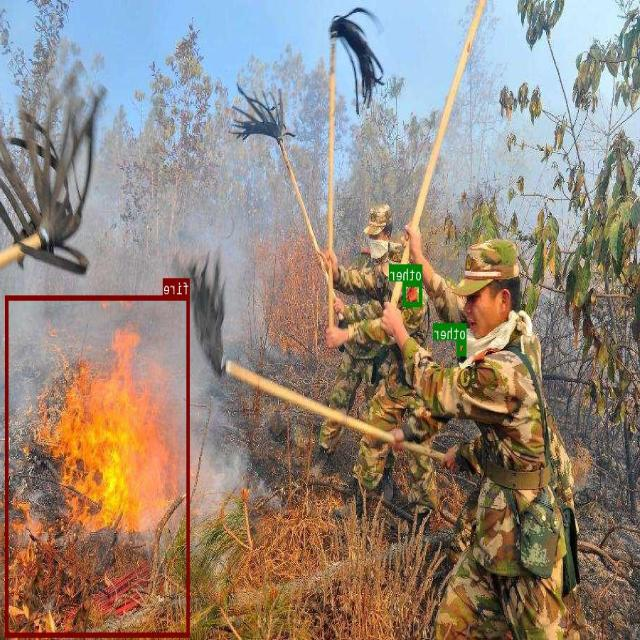fire: (6, 296, 190, 636)
other: (403, 281, 423, 305), (457, 340, 467, 355)
